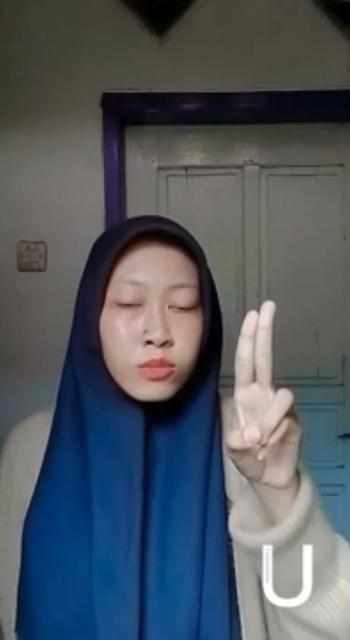U: (225, 296, 307, 497)
